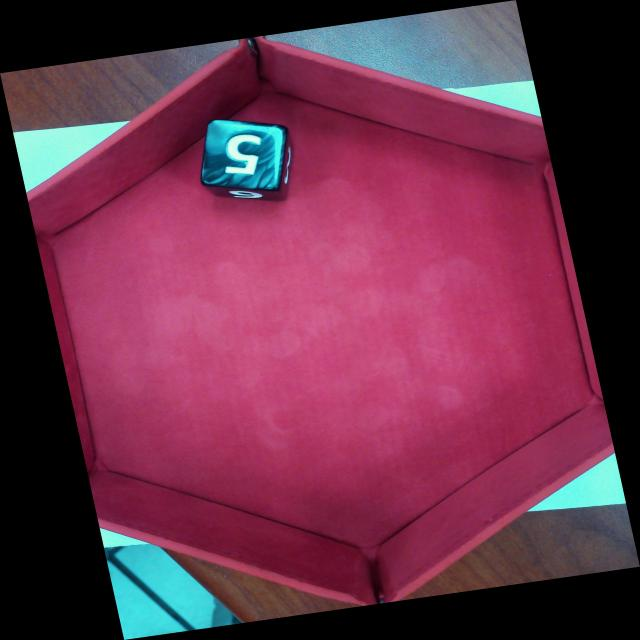dice: (201, 120, 288, 190)
